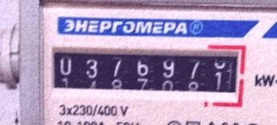0: (57, 55, 74, 76)
1: (213, 70, 224, 91)
3: (84, 57, 99, 80)
6: (136, 55, 150, 77)
7: (110, 54, 124, 78), (187, 57, 201, 80)
9: (161, 57, 175, 79)
screen: (45, 40, 249, 111)
